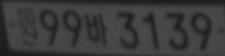1: (141, 10, 163, 49)
3: (165, 11, 190, 51), (115, 10, 140, 49)
9: (190, 11, 213, 50), (62, 8, 82, 47), (40, 8, 59, 46)
바: (83, 11, 108, 46)
울산_V: (16, 6, 39, 46)
